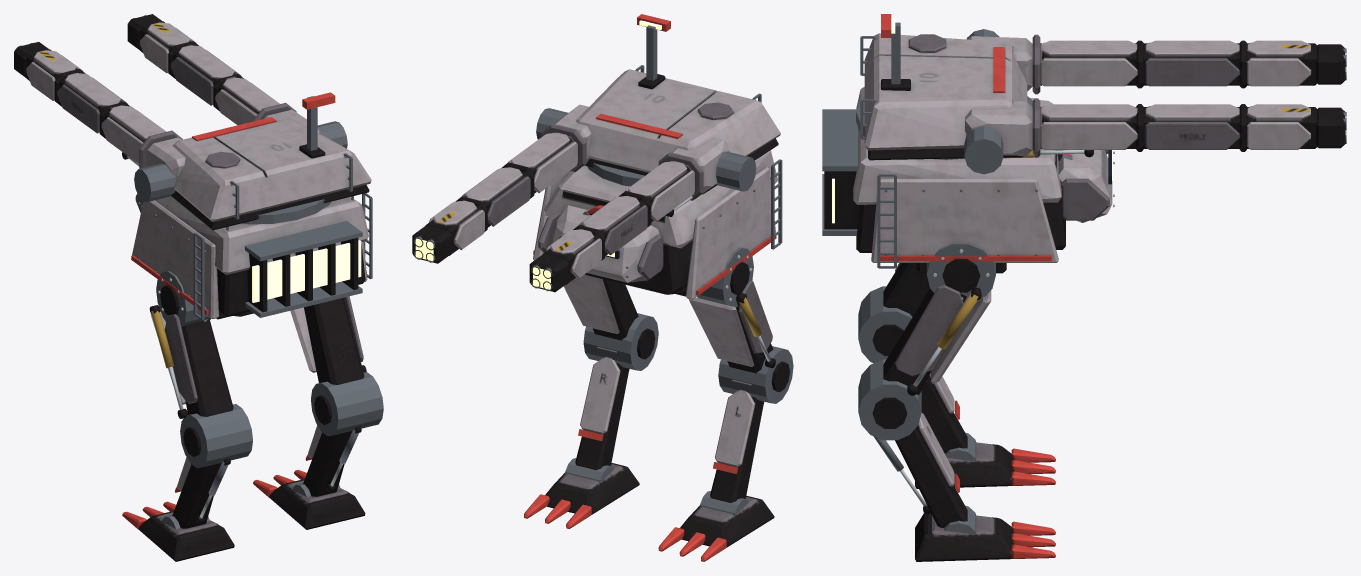
File: atlas.glb
3 views of the same model, side by side, from view 1: azimuth 30°, elevation 25°; view 2: azimuth 150°, elevation 25°; view 3: azimuth 270°, elevation 25° (orthographic). The views are drawn at different scales.
Visible parts, largest first — view 1: turret|base|, gunL|base|, hull|base|, gunR|base|, rad|base|, shinL|base|, shinR|base|, thighL|base|, hull|chip:7|, thighR|base|, footR|base|, footL|base| (+4 smaller); view 2: turret|base|, gunL|base|, hull|base|, gunR|base|, shinR|base|, shinL|base|, hull|chip:7|, footL|base|, footR|base|, thighL|chip:39|, hull|chip:4|, thighL|base| (+6 smaller); view 3: gunR|base|, turret|base|, gunL|base|, hull|chip:8|, hull|base|, shinR|base|, footR|base|, thighR|base|, shinL|base|, rad|base|, footL|base|, pelvis|base| (+3 smaller).
Boxes of the visible parts, x1=… form: turret|base|: x1=171, y1=92, x2=371, y2=230; gunL|base|: x1=14, y1=42, x2=185, y2=201; hull|base|: x1=131, y1=193, x2=372, y2=320; gunR|base|: x1=127, y1=14, x2=347, y2=148; rad|base|: x1=244, y1=221, x2=362, y2=317; shinL|base|: x1=172, y1=404, x2=252, y2=528; shinR|base|: x1=303, y1=372, x2=383, y2=496; thighL|base|: x1=149, y1=305, x2=233, y2=418; hull|chip:7|: x1=131, y1=200, x2=219, y2=318; thighR|base|: x1=304, y1=296, x2=366, y2=384; footR|base|: x1=253, y1=469, x2=365, y2=529; footL|base|: x1=122, y1=501, x2=234, y2=561; turret|base|: x1=576, y1=14, x2=780, y2=194; gunL|base|: x1=529, y1=137, x2=756, y2=292; hull|base|: x1=533, y1=150, x2=782, y2=295; gunR|base|: x1=412, y1=104, x2=591, y2=263; shinR|base|: x1=575, y1=313, x2=658, y2=470; shinL|base|: x1=710, y1=346, x2=793, y2=502; hull|chip:7|: x1=686, y1=167, x2=776, y2=299; footL|base|: x1=658, y1=491, x2=774, y2=561; footR|base|: x1=524, y1=458, x2=639, y2=528; thighL|chip:39|: x1=688, y1=297, x2=754, y2=366; hull|chip:4|: x1=551, y1=205, x2=659, y2=282; thighL|base|: x1=727, y1=280, x2=775, y2=373; gunR|base|: x1=964, y1=101, x2=1346, y2=174; turret|base|: x1=856, y1=14, x2=1032, y2=160; gunL|base|: x1=966, y1=29, x2=1346, y2=91; hull|chip:8|: x1=871, y1=178, x2=1058, y2=262; hull|base|: x1=853, y1=87, x2=1114, y2=268; shinR|base|: x1=858, y1=359, x2=967, y2=528; footR|base|: x1=915, y1=505, x2=1055, y2=561; thighR|base|: x1=883, y1=284, x2=981, y2=395; shinL|base|: x1=858, y1=286, x2=967, y2=453; rad|base|: x1=822, y1=109, x2=859, y2=235; footL|base|: x1=915, y1=432, x2=1055, y2=488; pelvis|base|: x1=916, y1=243, x2=1006, y2=303.
Size of the model in its own units: 6.92 by 14.94 by 13.95.
5 materials, 1 textured.
